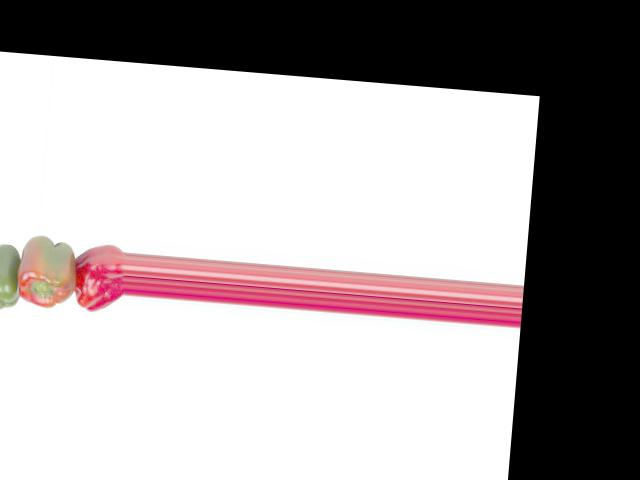bell_pepper: (69, 238, 126, 319)
